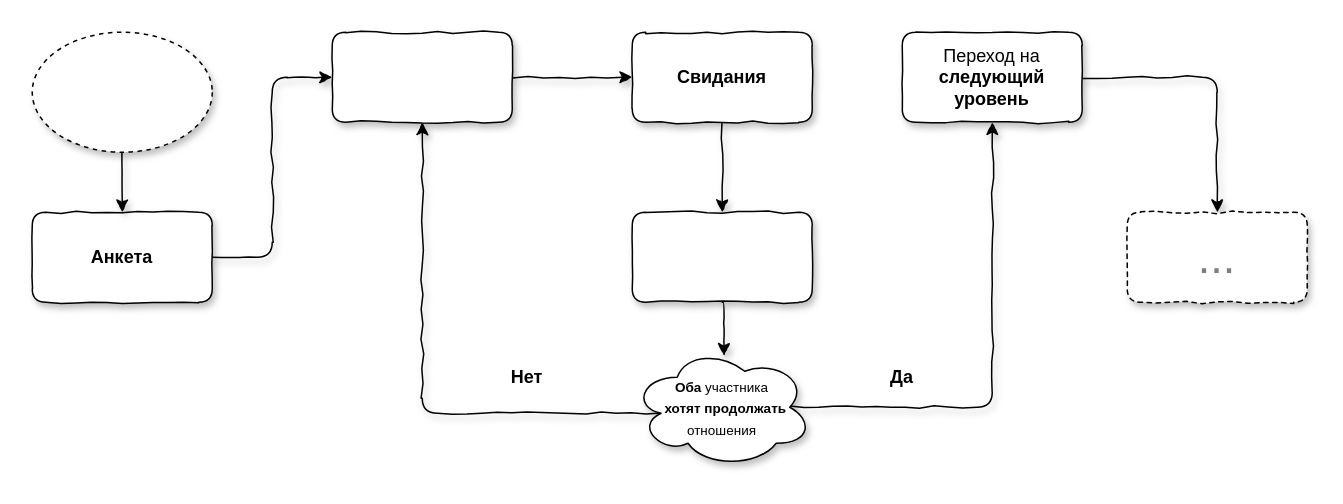
The diagram is 1343 pixels wide and 504 high, and some of its shapes have lost their labels. Each missing label, with the centre of its shape:
"Начало" goes at [123,94].
"Обратная связь" goes at [723,259].
"Самооценка и Саморазвитие" goes at [423,79].
